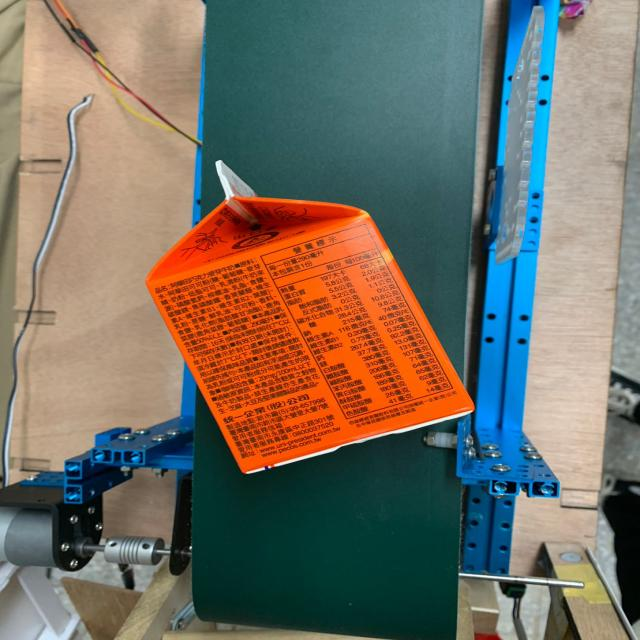non_white_jug: (134, 147, 489, 487)
